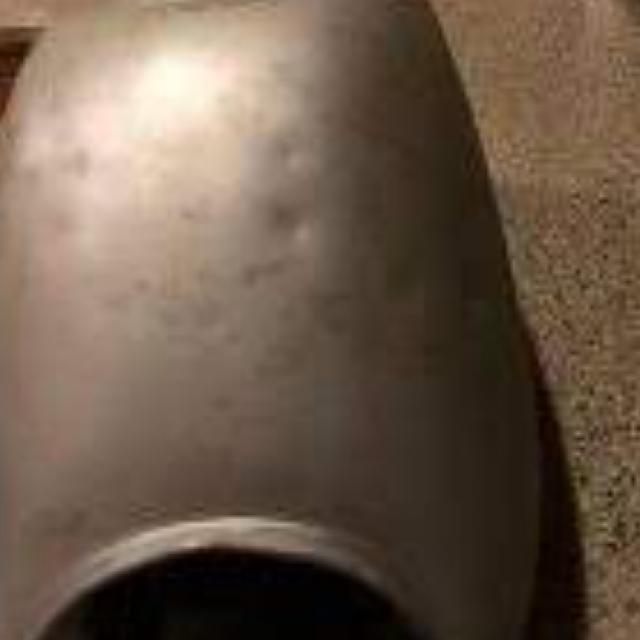dents: (257, 188, 334, 278), (259, 132, 345, 186)
